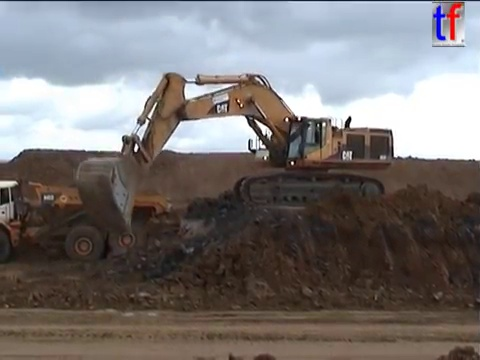excavator: (74, 70, 396, 238)
truck: (1, 176, 172, 265)
